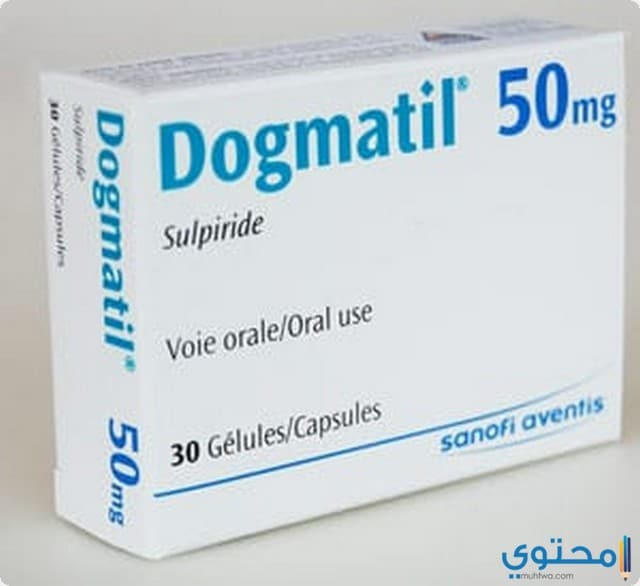Medicine: (48, 20, 637, 565)
